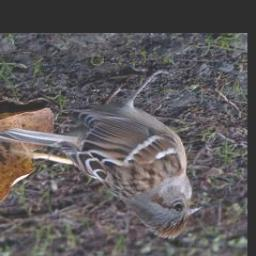Sparrow: (0, 64, 207, 242)
